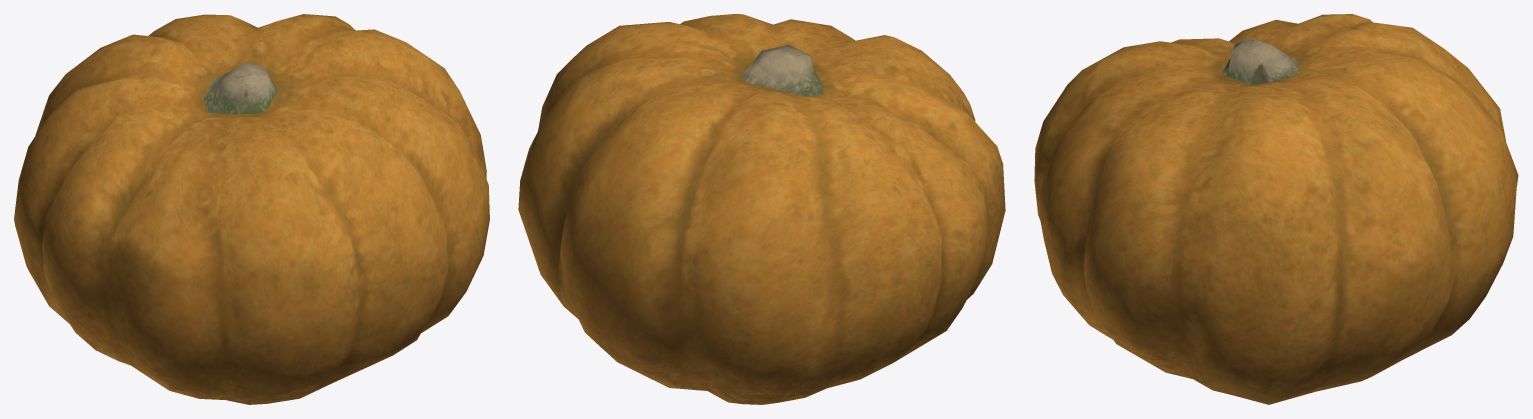
The model's file is SM_Pumpkin.fbx.
3 views of the same model, side by side, from view 1: azimuth 30°, elevation 25°; view 2: azimuth 150°, elevation 25°; view 3: azimuth 270°, elevation 25° (orthographic). The views are drawn at different scales.
Parts seen in each view (by area): view 1: SM_Pumpkin_LOD0; view 2: SM_Pumpkin_LOD0; view 3: SM_Pumpkin_LOD0.
Part boxes in pixels (left/top/right/bottom): SM_Pumpkin_LOD0: left=14, top=14, right=489, bottom=404; SM_Pumpkin_LOD0: left=518, top=14, right=1005, bottom=404; SM_Pumpkin_LOD0: left=1034, top=14, right=1518, bottom=404.
Bounding box in the file's own units: 30.12 × 29.42 × 20.39.
1 material, 1 textured.
